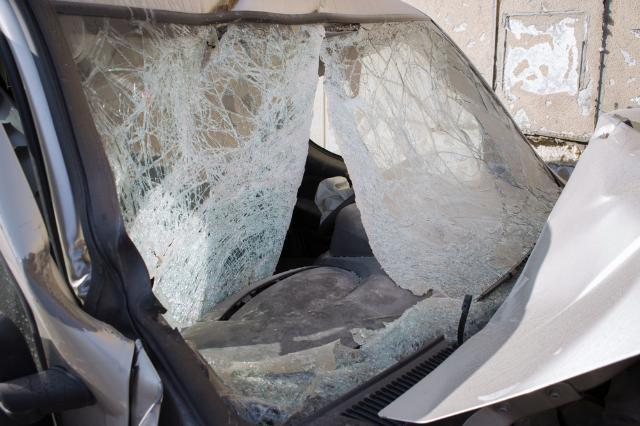dent: (21, 241, 105, 333), (65, 228, 90, 302)
glass shatter: (60, 13, 561, 426)
